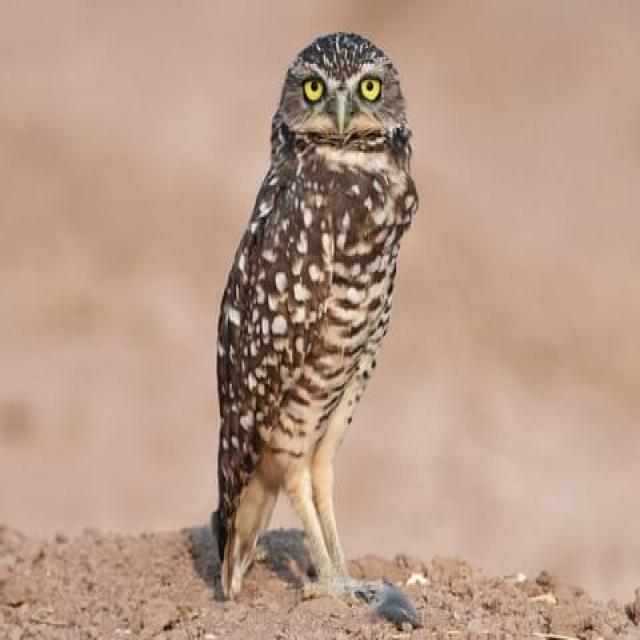owl: (180, 17, 468, 625)
